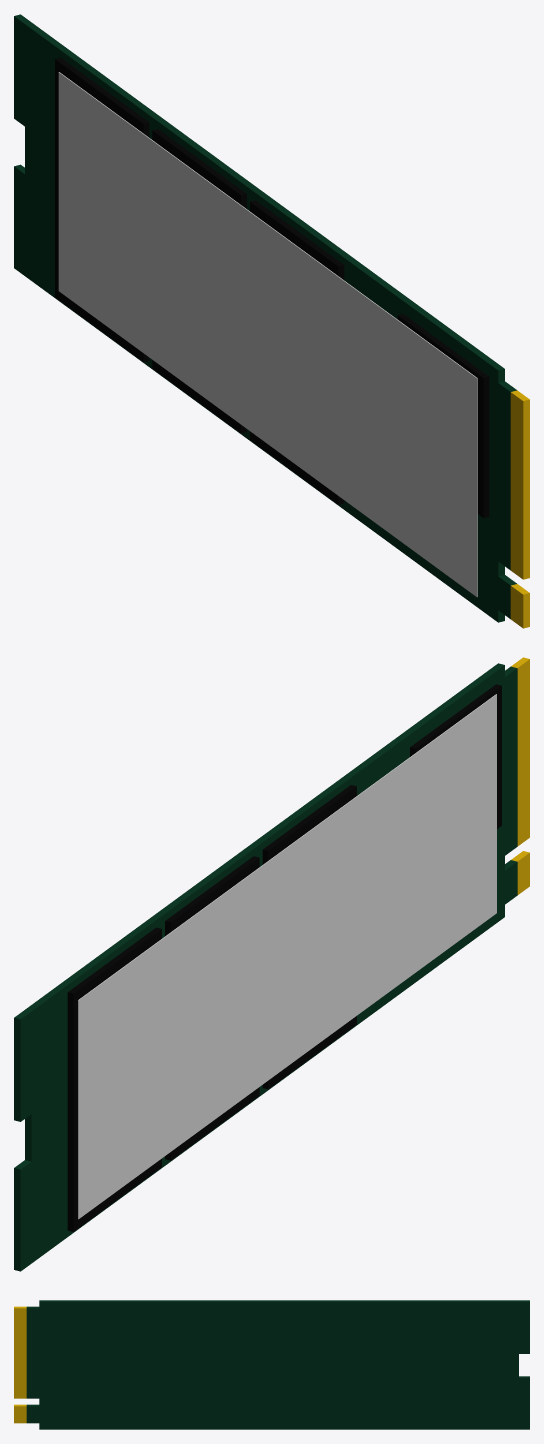
The model's file is PC_SSD.fbx.
3 views of the same model, one above another, from view 1: azimuth 30°, elevation 25°; view 2: azimuth 150°, elevation 25°; view 3: azimuth 270°, elevation 25° (orthographic). The views are drawn at different scales.
Visible parts, largest first — view 1: SSD_NVMe_1.002; view 2: SSD_NVMe_1.002; view 3: SSD_NVMe_1.002.
Boxes of the visible parts, x1=… form: SSD_NVMe_1.002: x1=14, y1=14, x2=529, y2=628; SSD_NVMe_1.002: x1=14, y1=657, x2=529, y2=1271; SSD_NVMe_1.002: x1=14, y1=1300, x2=529, y2=1429.
Size of the model in its own units: 0.5377 by 9.66 by 35.35.
